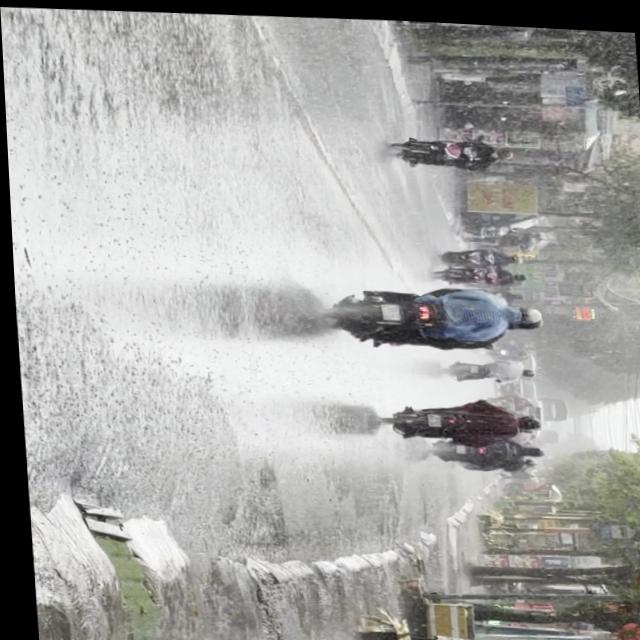helmet: (509, 297, 541, 317), (508, 310, 541, 325), (487, 141, 514, 155)
licenseplate: (309, 271, 545, 352), (386, 126, 517, 167)
nohelmet: (379, 298, 398, 315)
